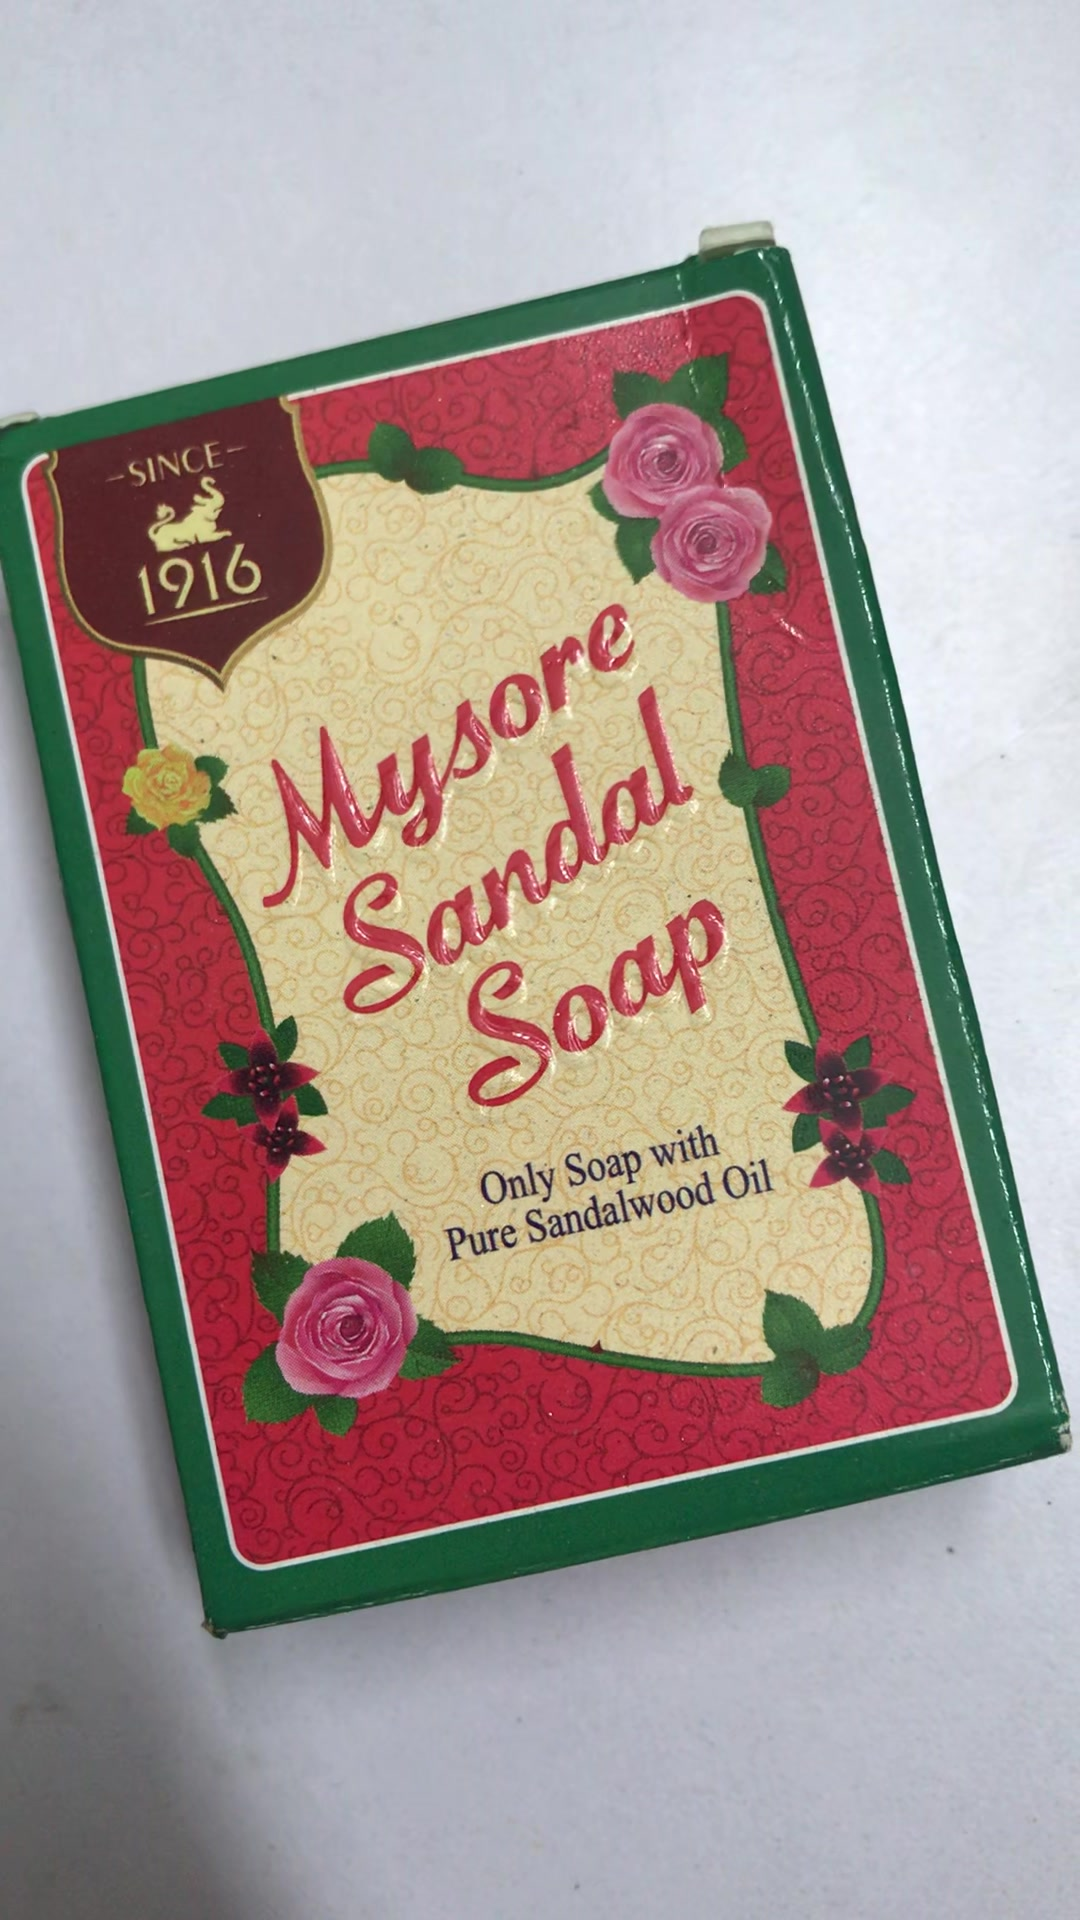mysore sandal soap: (9, 252, 1068, 1631)
